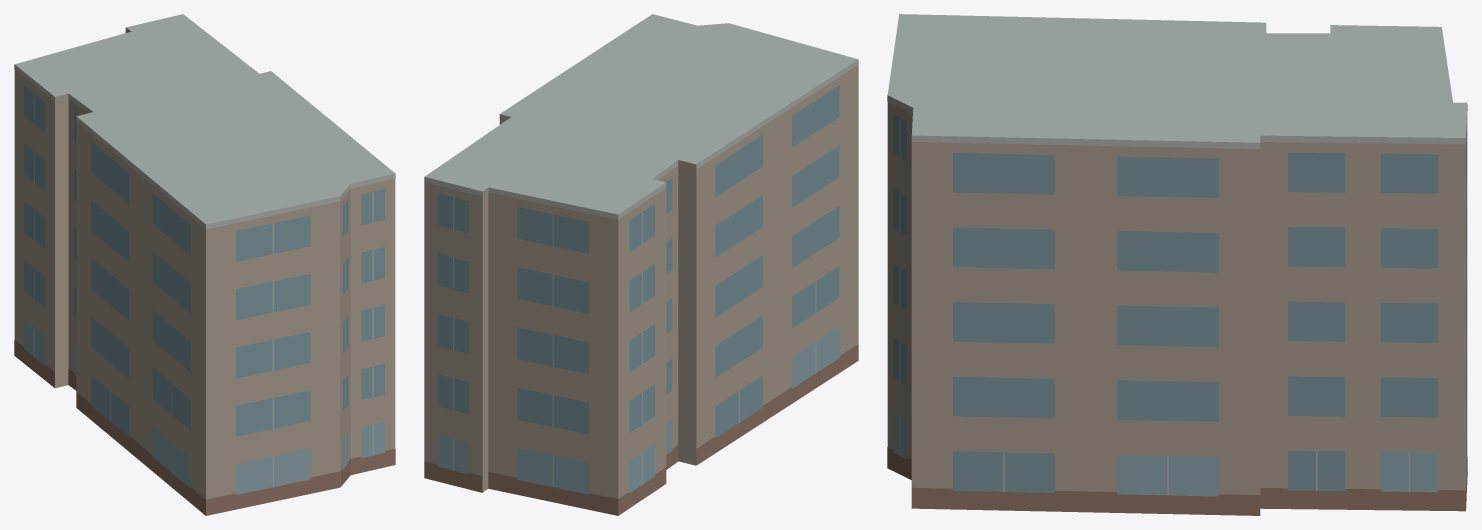
File: survey-upis-32563464.glb
3 views of the same model, side by side, from view 1: azimuth 30°, elevation 25°; view 2: azimuth 150°, elevation 25°; view 3: azimuth 270°, elevation 25° (orthographic). The views are drawn at different scales.
Visible parts, largest first — view 1: survey-upis-32563464.tmp; view 2: survey-upis-32563464.tmp; view 3: survey-upis-32563464.tmp.
Boxes of the visible parts, x1,y1,x2,y2 form: survey-upis-32563464.tmp: [14, 14, 395, 515]; survey-upis-32563464.tmp: [424, 14, 858, 515]; survey-upis-32563464.tmp: [887, 14, 1467, 515].
Size of the model in its own units: 10.6 by 14.3 by 20.15.
